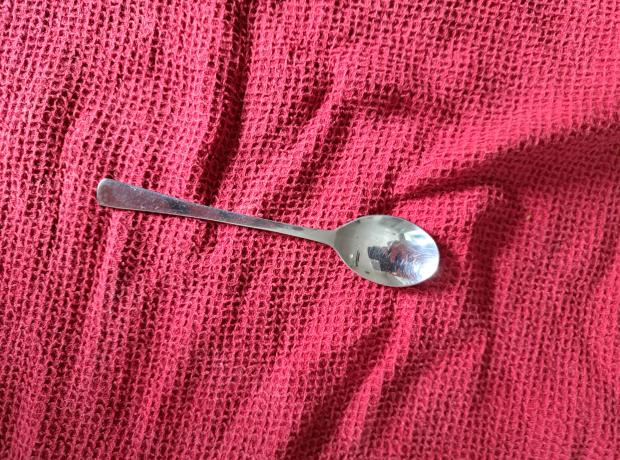metal: (100, 169, 447, 286)
